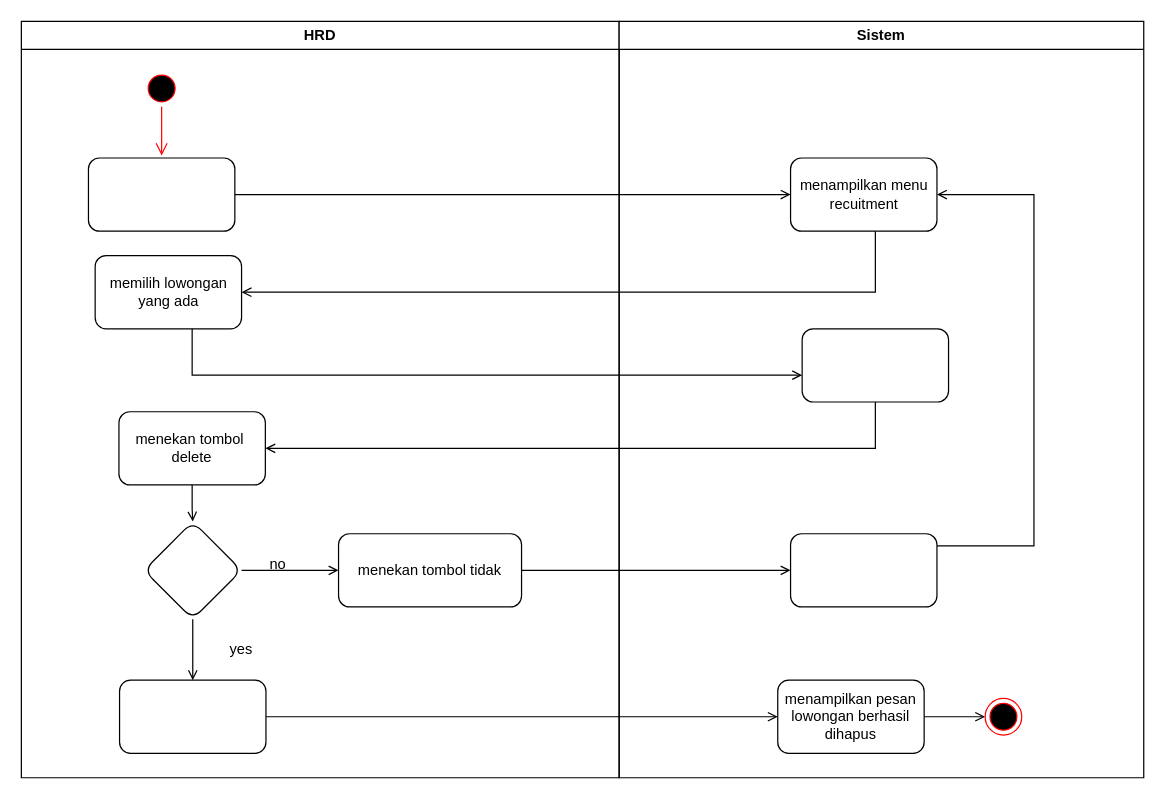
This 1165x799 diagram has some shape labels left out. The centre of each missing label's shape, as x and y in pixels:
"menampilkan detail lowongan kerja" goes at pixel 875 365.
"menampilkan pesan lowongan tidak berhasil dihapus" goes at pixel 863 570.
"menekan tombol iya" goes at pixel 192 716.
"Menekan tombol recitment" goes at pixel 161 194.
